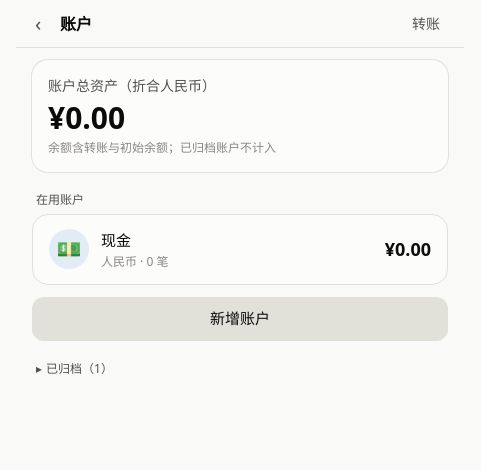
账户列表 › 已归档账户默认折叠在分组里
The image size is (481, 470).
Step 1. Click the button "▸ 已归档（1）" → (79, 368), box [32,360,448,376]
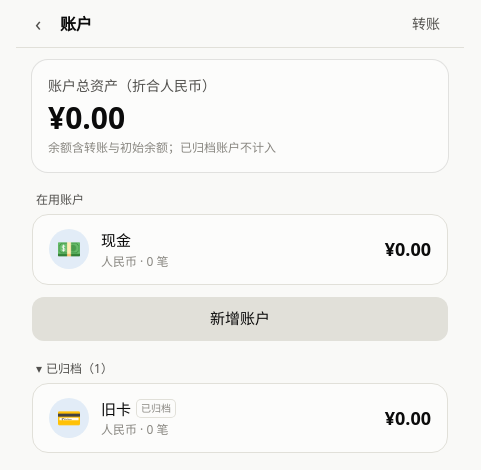
Now the text "旧卡" is shown, box [101,398,131,420]
